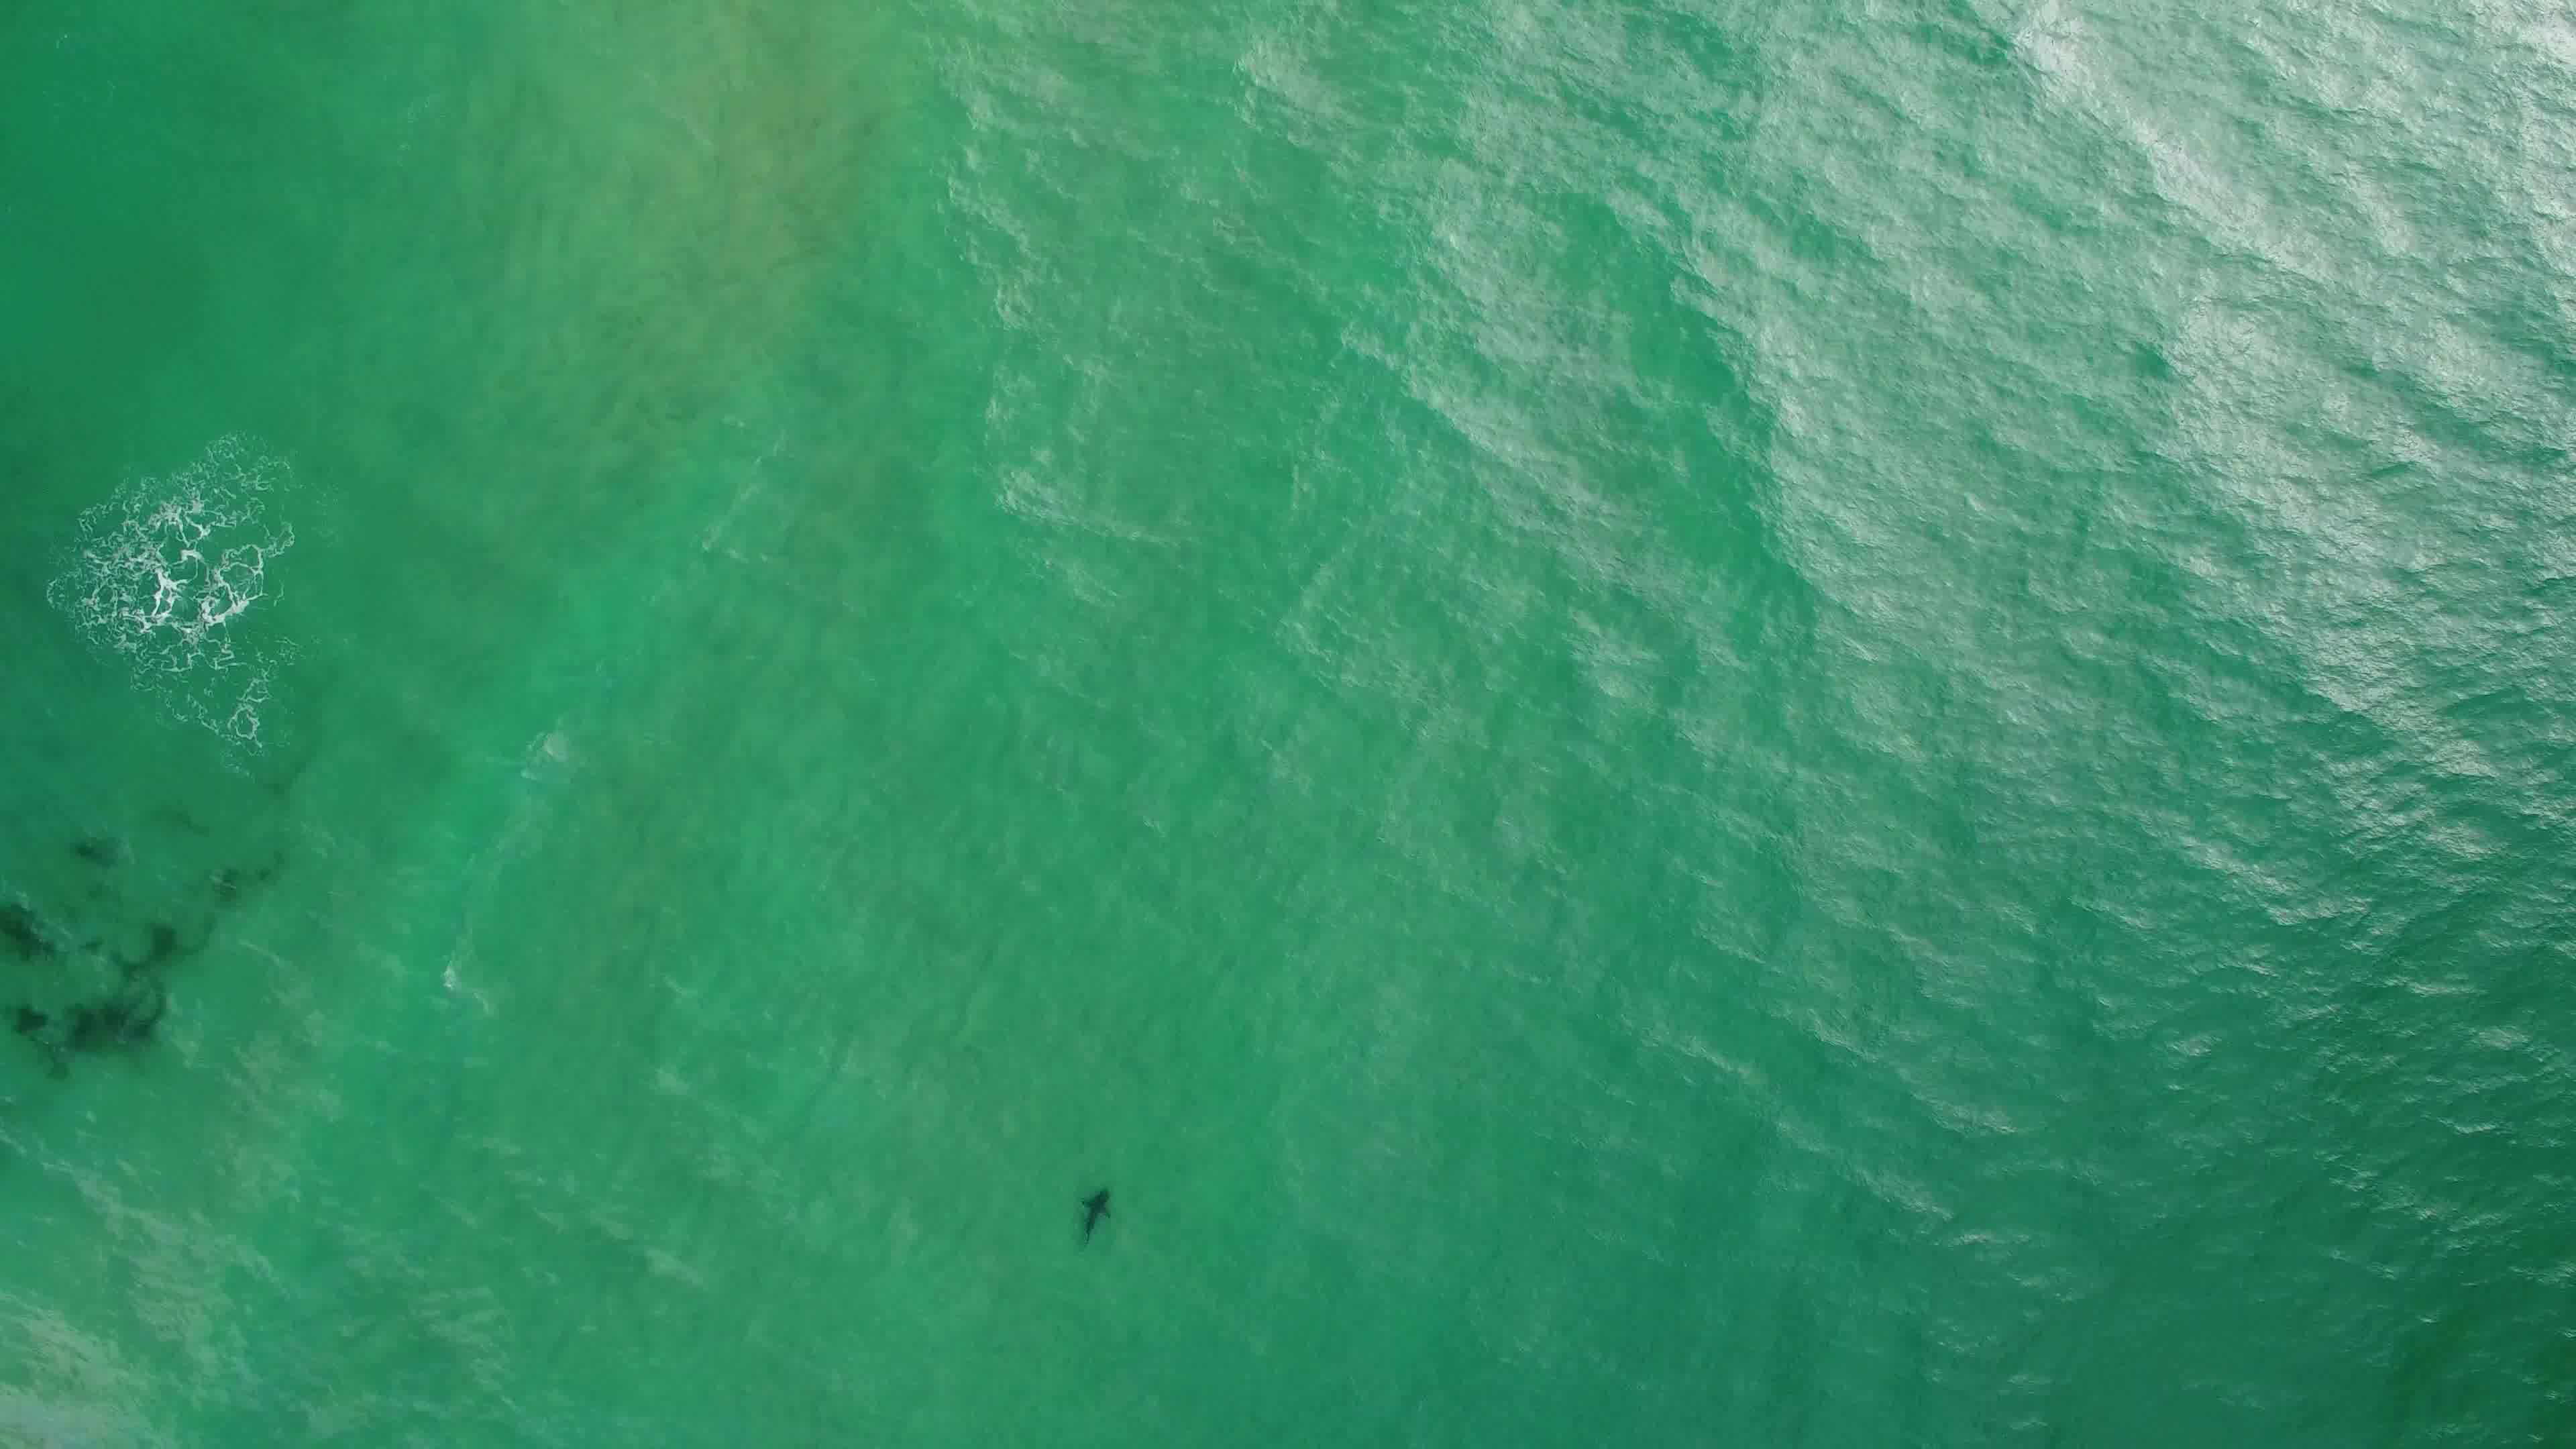shark: (1076, 1182, 1116, 1244)
